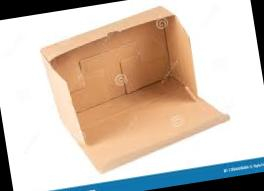Kertas: (41, 6, 228, 170)
